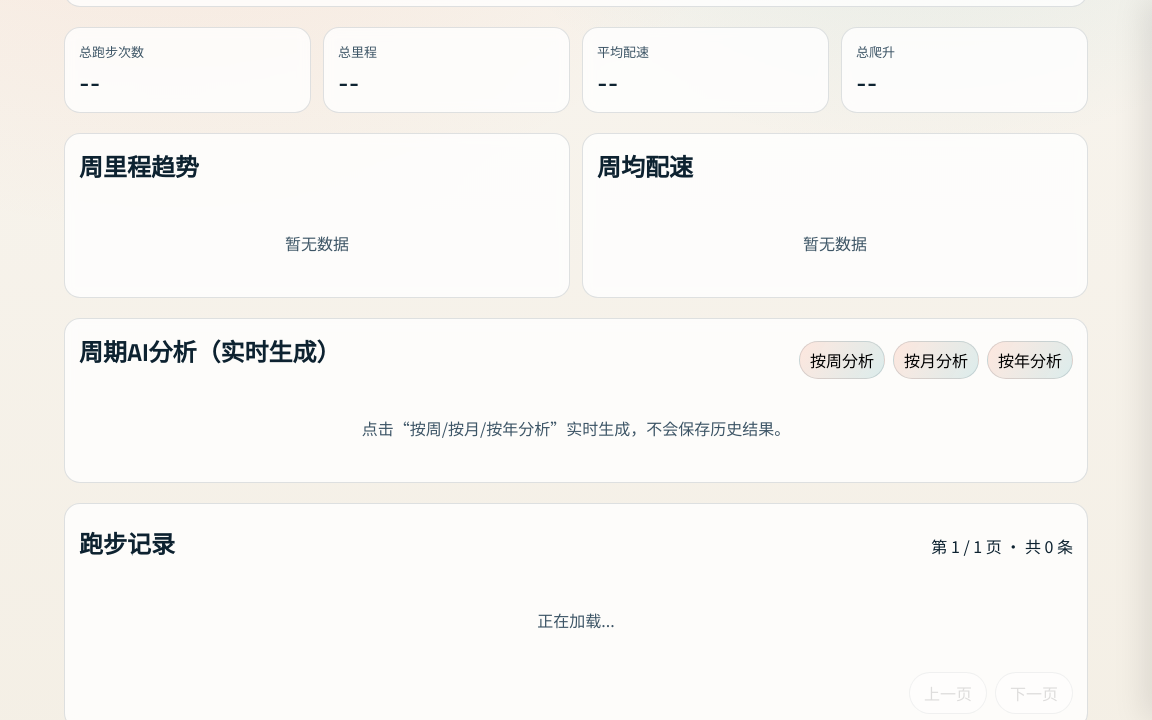
Scenario: App › generates week/month/year period analysis in realtime
(page scrolled)
Click the button "按周分析": (842, 360) left=799, top=341, right=885, bottom=379
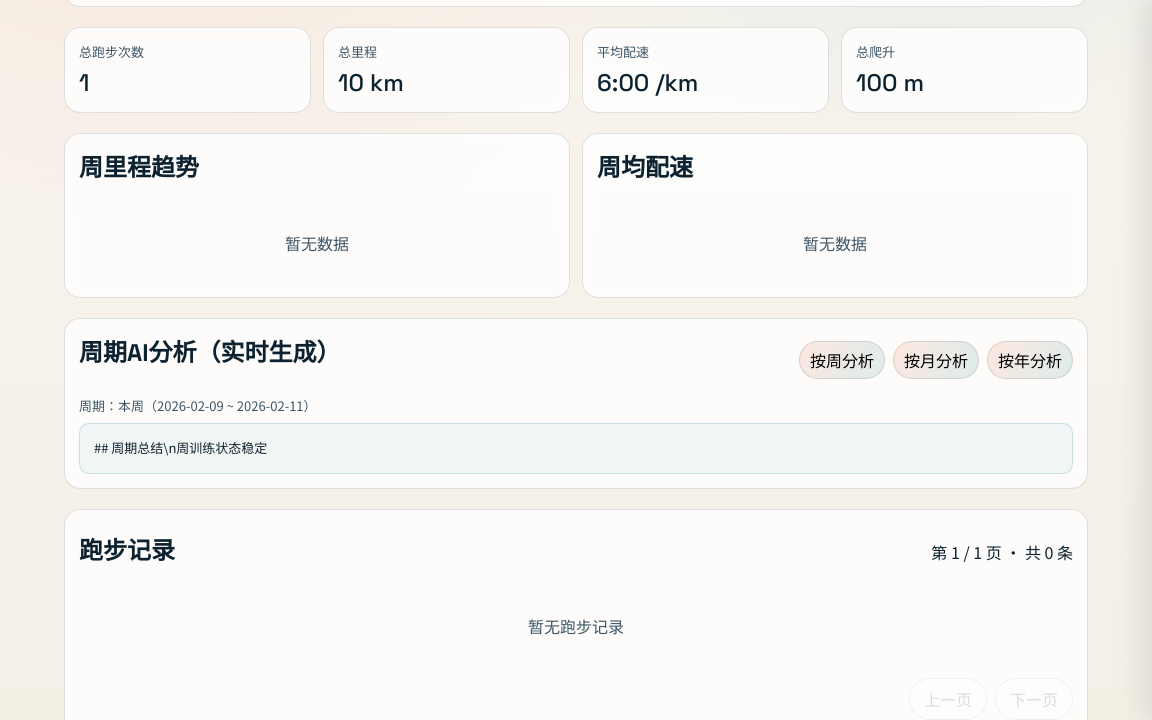
Now the text "## 周期总结\\n周训练状态稳定" is shown, box left=79, top=423, right=1073, bottom=474
Now the text "周期：本周（2026-02-09 ~ 2026-02-11）" is shown, box left=79, top=396, right=317, bottom=415
